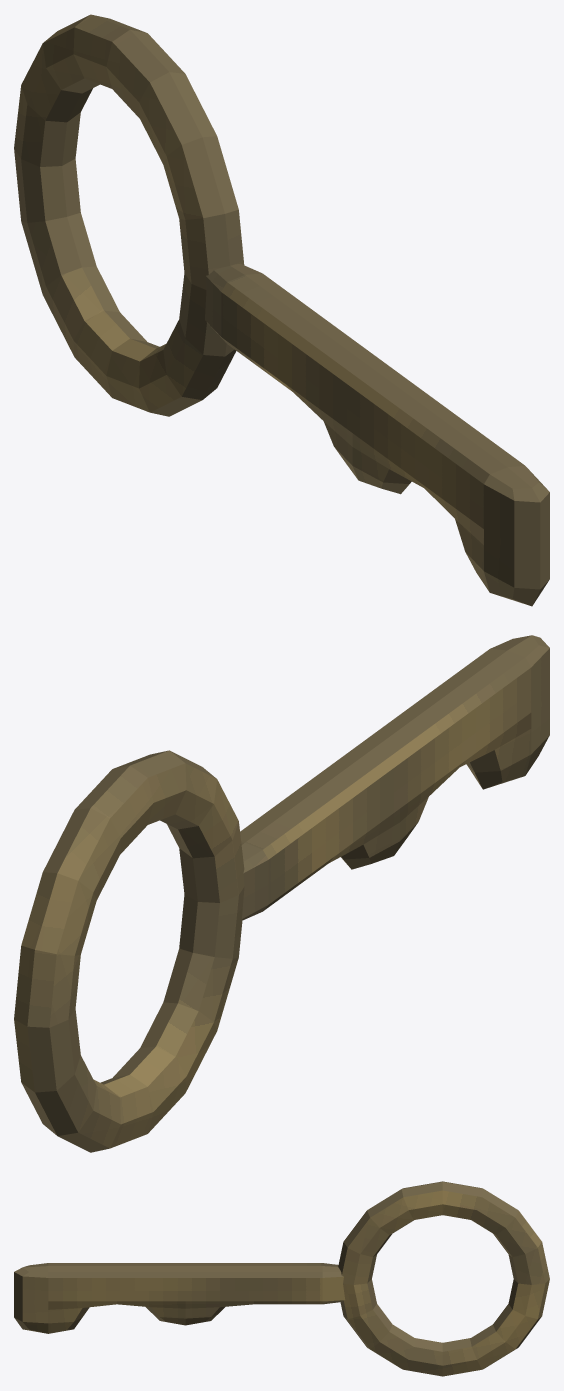
The model's file is key.gltf.
3 renders of one model, top to bottom at view 1: azimuth 30°, elevation 25°; view 2: azimuth 150°, elevation 25°; view 3: azimuth 270°, elevation 25°, orthographic. The views are drawn at different scales.
Visible parts, largest first — view 1: tube, mesh; view 2: tube, mesh; view 3: tube, mesh.
Boxes of the visible parts, x1,y1,x2,y2 form: tube: [14, 14, 244, 416]; mesh: [205, 263, 549, 606]; tube: [14, 750, 244, 1152]; mesh: [240, 635, 549, 920]; tube: [338, 1181, 549, 1376]; mesh: [14, 1263, 345, 1333].
Size of the model in its own units: 0.0313 by 0.2344 by 0.5859.
1 material, 1 textured.
